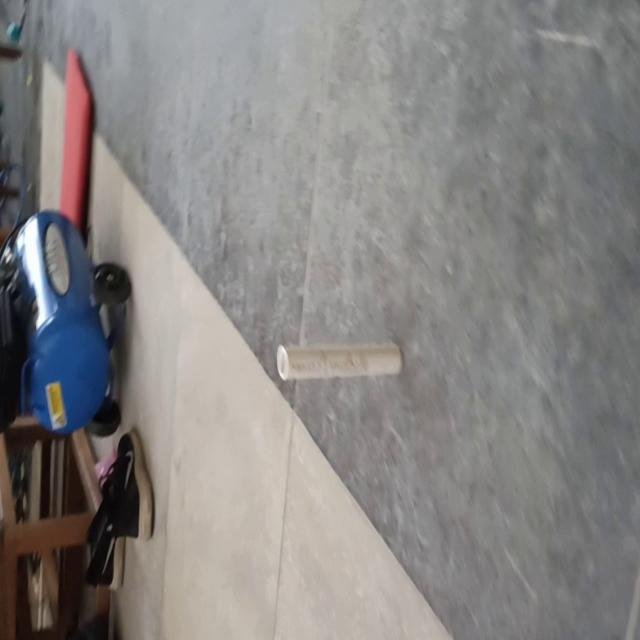Cube: (276, 338, 404, 383)
